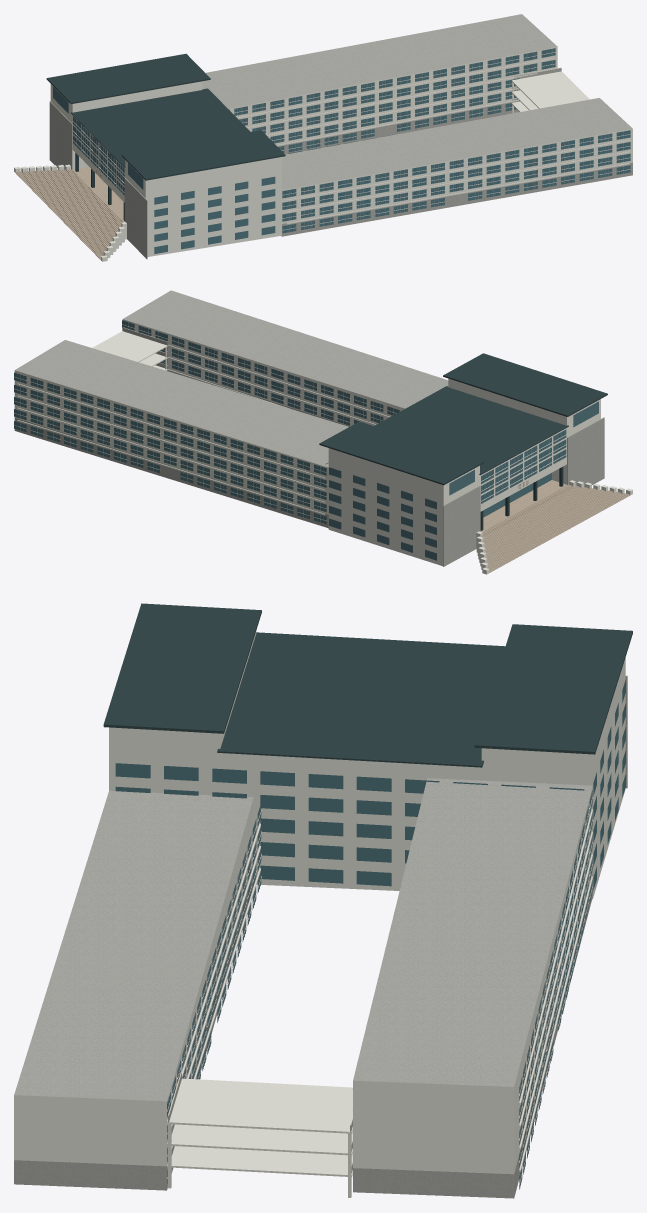
The model's file is chunk-n1-p3.glb.
3 renders of one model, top to bottom at view 1: azimuth 30°, elevation 25°; view 2: azimuth 150°, elevation 25°; view 3: azimuth 270°, elevation 25°, orthographic. The views are drawn at different scales.
Visible parts, largest first — view 1: chunk-n1-p3; view 2: chunk-n1-p3; view 3: chunk-n1-p3.
Part boxes in pixels (x1,y1,x2,y2): chunk-n1-p3: (14,14,632,261); chunk-n1-p3: (14,290,632,574); chunk-n1-p3: (14,603,632,1198).
Size of the model in its own units: 159 by 24.7 by 87.98.
Materials: 6 (2 with a texture image).
